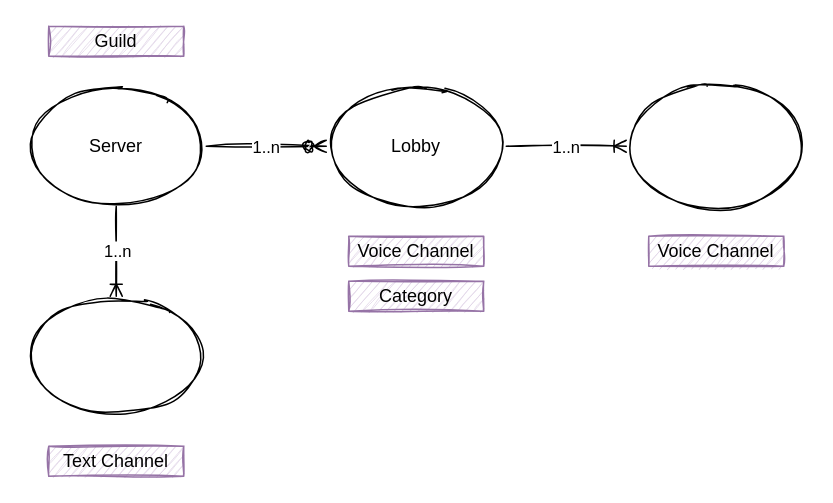
The diagram is 833 pixels wide and 503 high, and some of its shapes have lost their labels. The box of each missing label's shape, as (x1, y1, x2, y2) in pixels:
Room: (625, 85, 806, 206)
Space: (25, 295, 206, 416)
